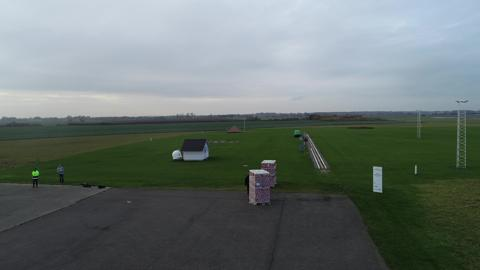RockwoolPallet: (260, 158, 277, 185)
